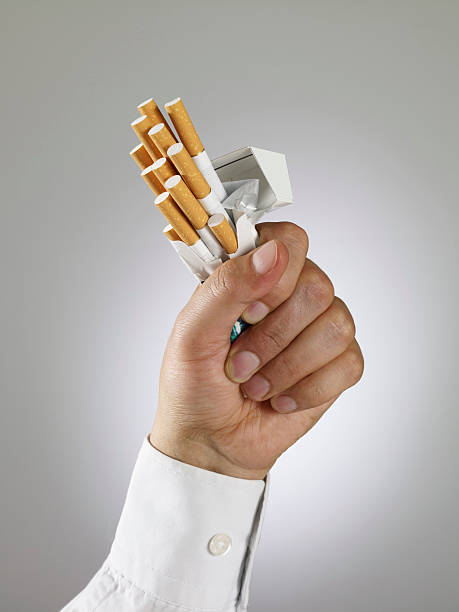cigarette: (162, 146, 295, 289), (165, 94, 231, 201), (165, 140, 236, 227), (165, 173, 227, 261), (154, 187, 214, 256), (130, 112, 166, 163), (205, 209, 238, 254), (129, 95, 166, 123), (147, 123, 177, 155), (130, 140, 156, 169), (140, 167, 165, 197), (154, 157, 178, 184), (161, 223, 181, 240)
